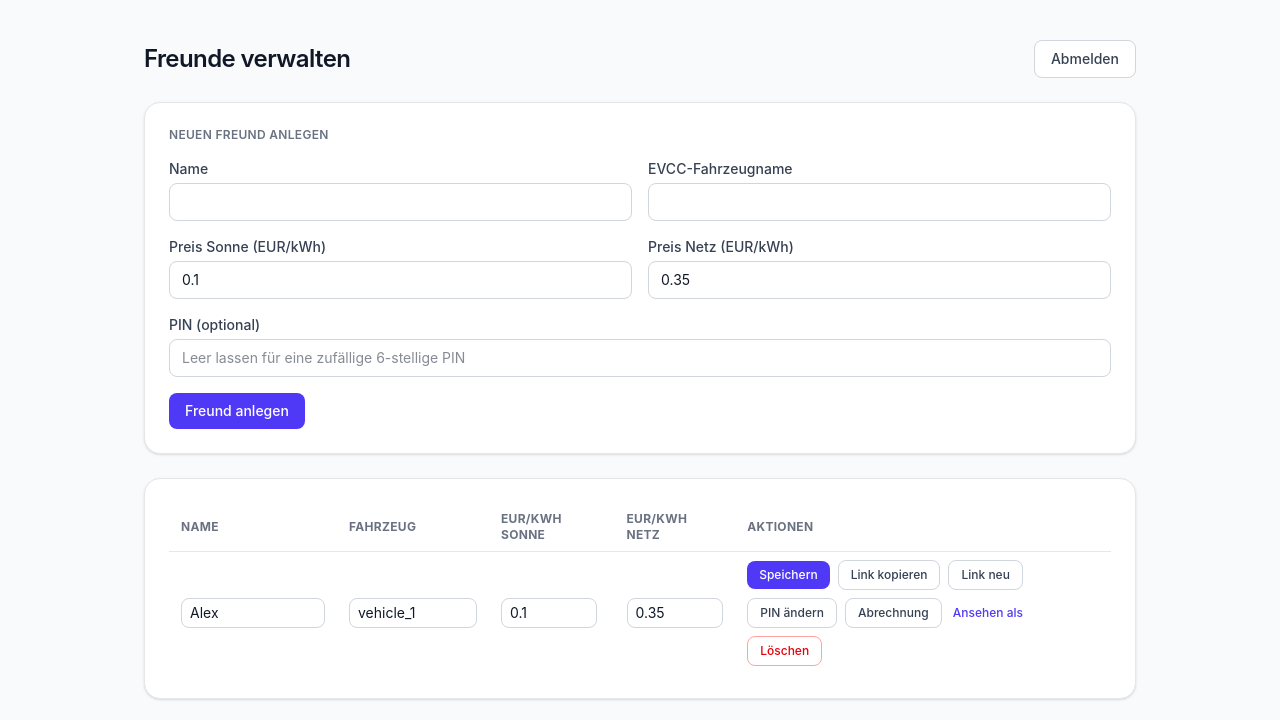
AdminPage › removes a friend from the list after deleting
Click the button "Löschen" at (785, 651), box [747,636,822,666]
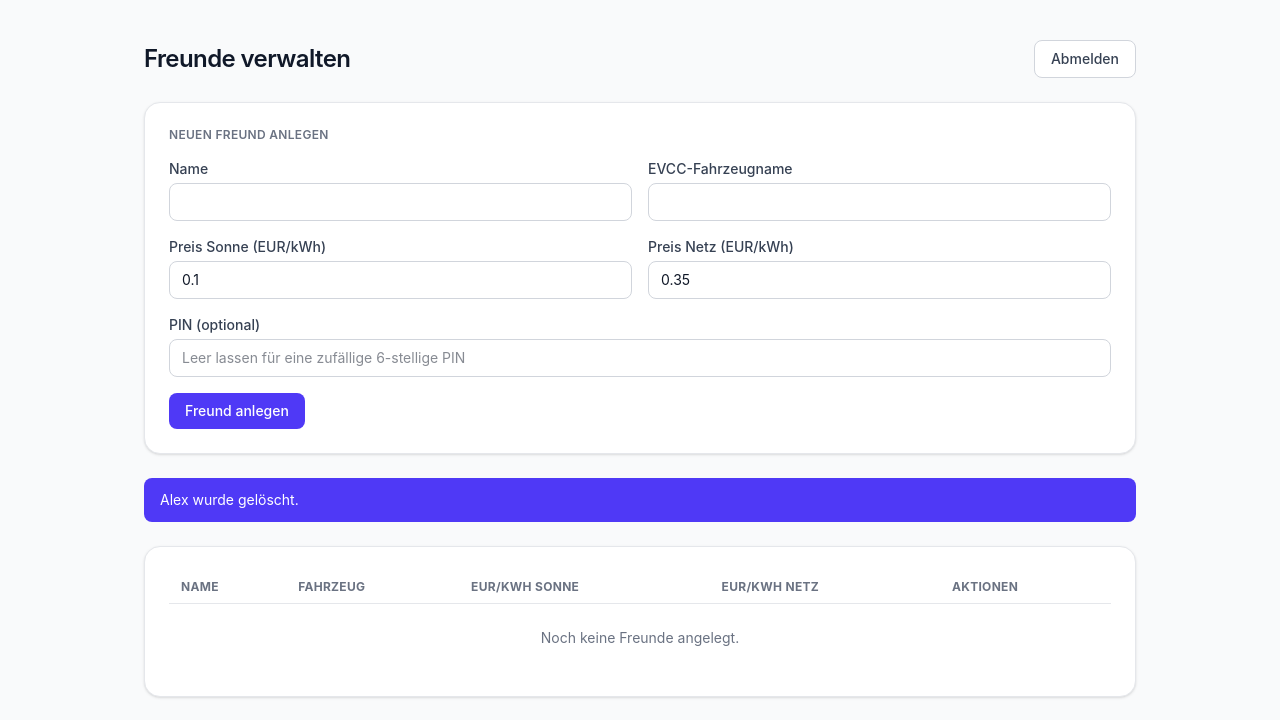
Now the text "Noch keine Freunde angelegt." is shown, box [169,604,1111,672]
Now the text "Alex wurde gelöscht." is shown, box [160,490,299,510]
